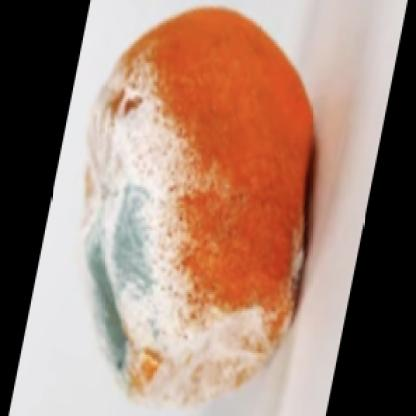rotten: (82, 10, 314, 395)
